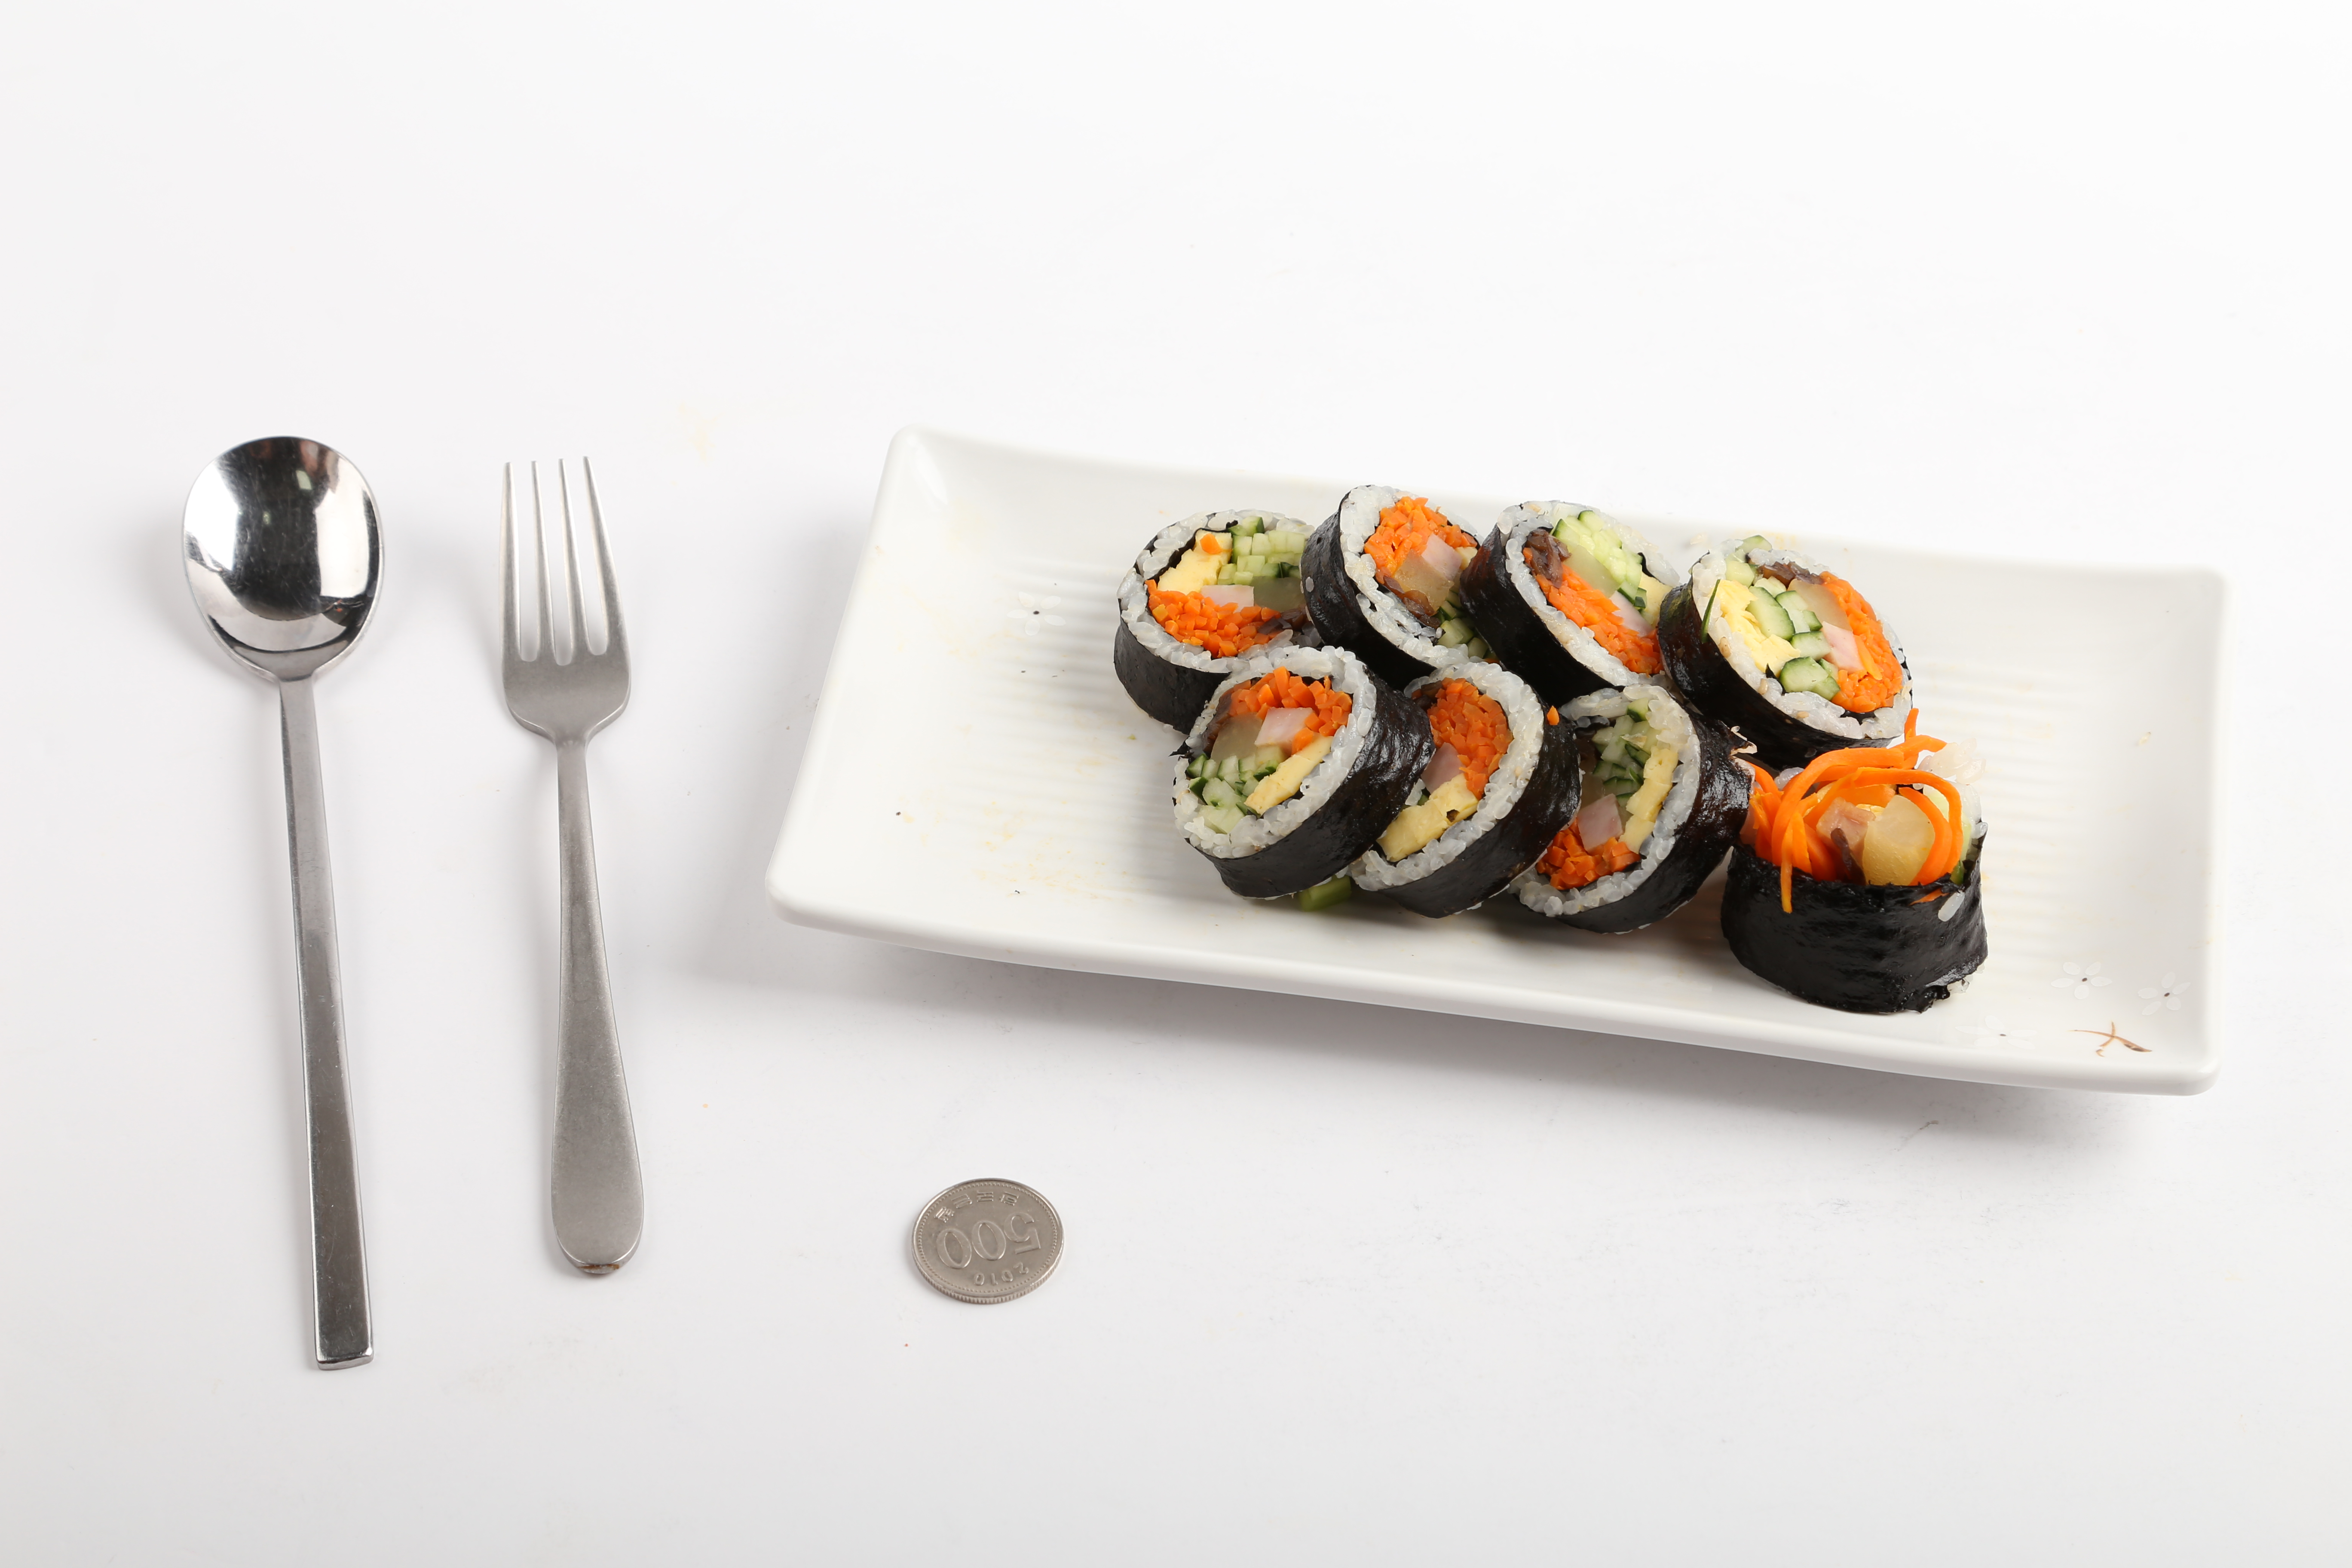dish: (765, 416, 2229, 1102)
ref_coin: (899, 1174, 1066, 1316)
ref_fork: (488, 444, 635, 794)
ref_spoon: (177, 434, 385, 744)
김밥: (1106, 474, 1995, 1027)
